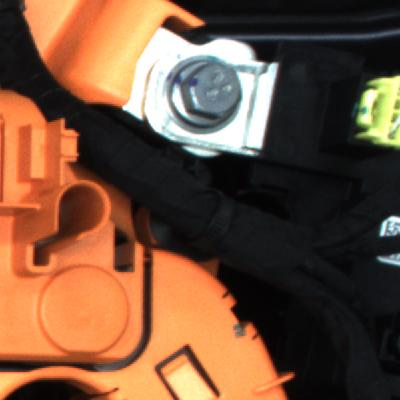nut_b: (150, 53, 266, 131)
